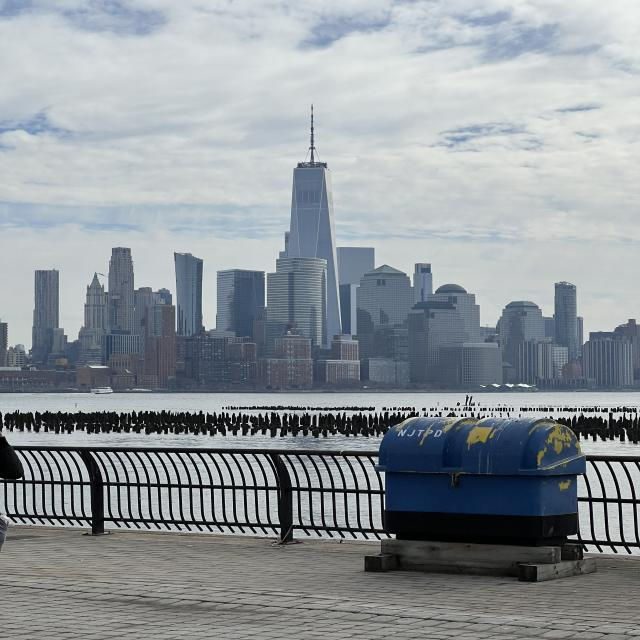WTC: (286, 101, 338, 258)
